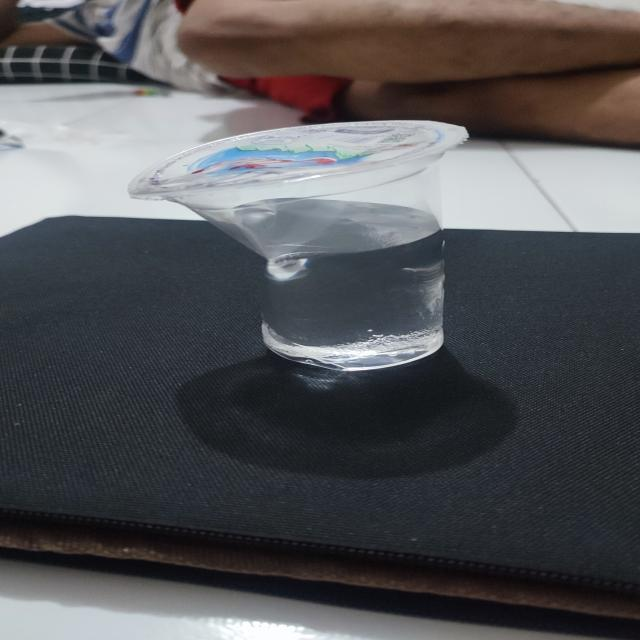air-gelas-rusak: (129, 110, 495, 387)
